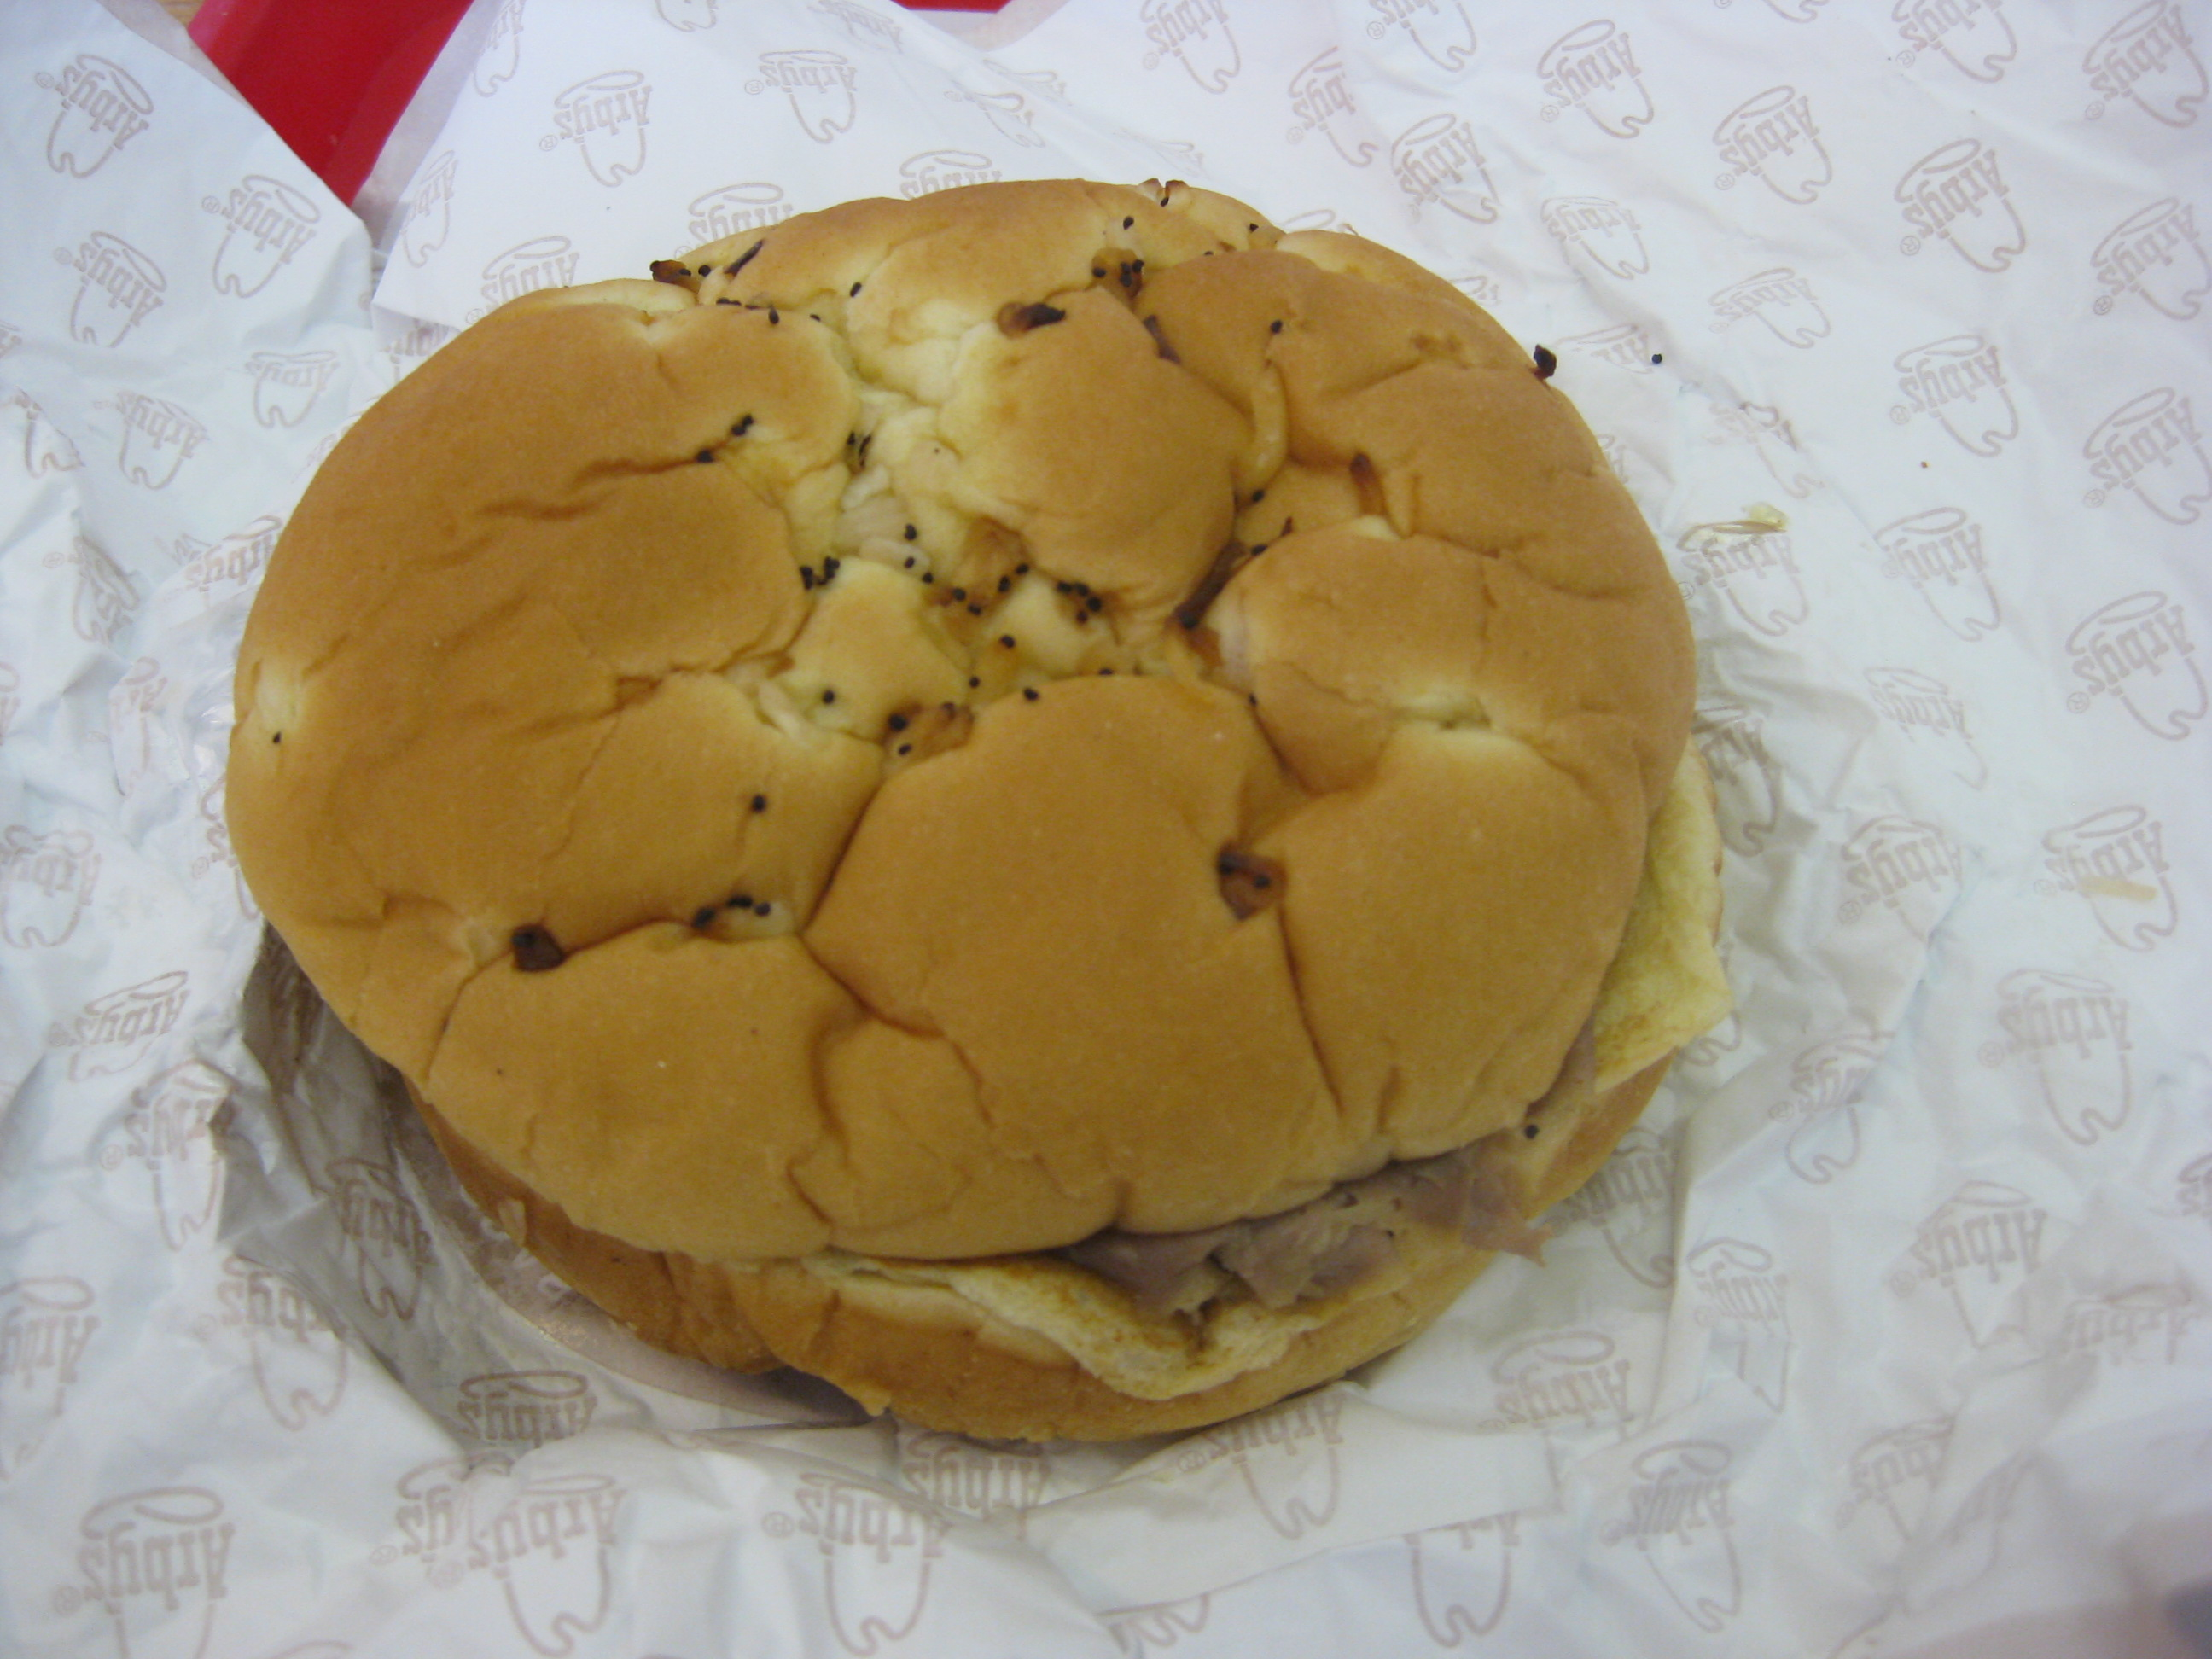burger: (207, 148, 1808, 1454)
